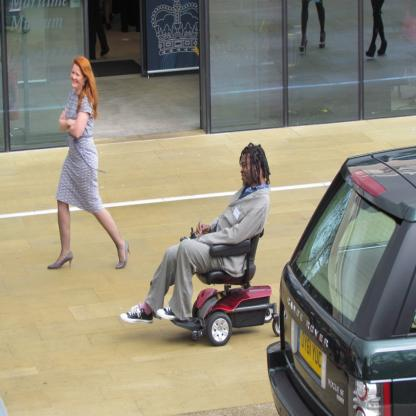Car: (276, 158, 414, 416)
